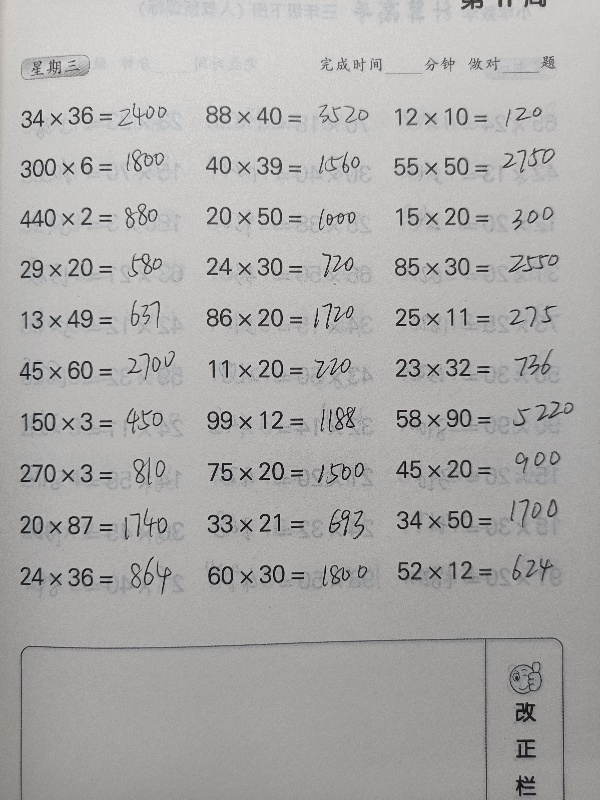equation: (11, 503, 191, 549), (198, 296, 378, 337), (11, 198, 191, 239), (12, 97, 192, 136), (11, 559, 191, 594), (198, 557, 378, 592), (199, 506, 379, 541), (12, 456, 192, 491), (199, 403, 379, 438), (388, 553, 568, 587), (388, 502, 568, 536), (199, 454, 379, 488), (388, 452, 568, 486), (13, 405, 193, 439), (387, 401, 567, 435), (10, 353, 190, 387), (200, 352, 380, 386), (387, 351, 567, 385), (13, 302, 193, 336), (12, 250, 192, 284), (386, 250, 566, 284), (199, 250, 379, 284), (388, 200, 568, 234), (198, 199, 378, 233), (386, 150, 566, 184), (197, 149, 377, 183), (11, 149, 191, 183), (387, 100, 567, 134), (197, 98, 377, 132), (387, 301, 567, 334)
